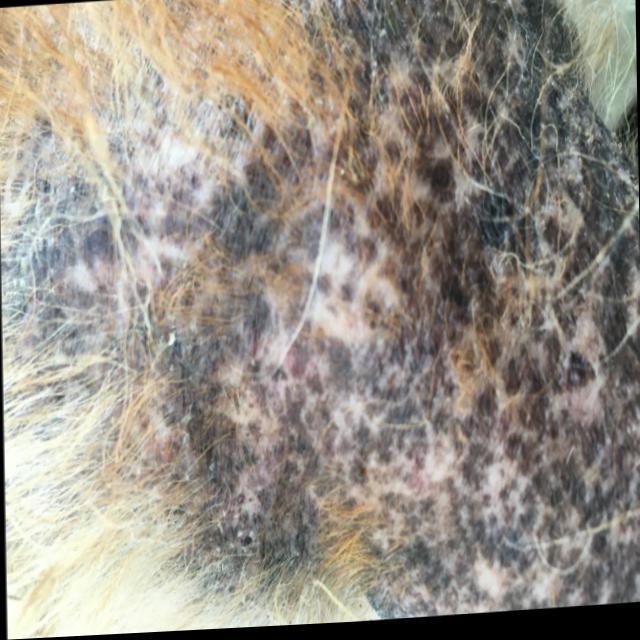demodicosis: (232, 32, 640, 630), (40, 117, 188, 334)
